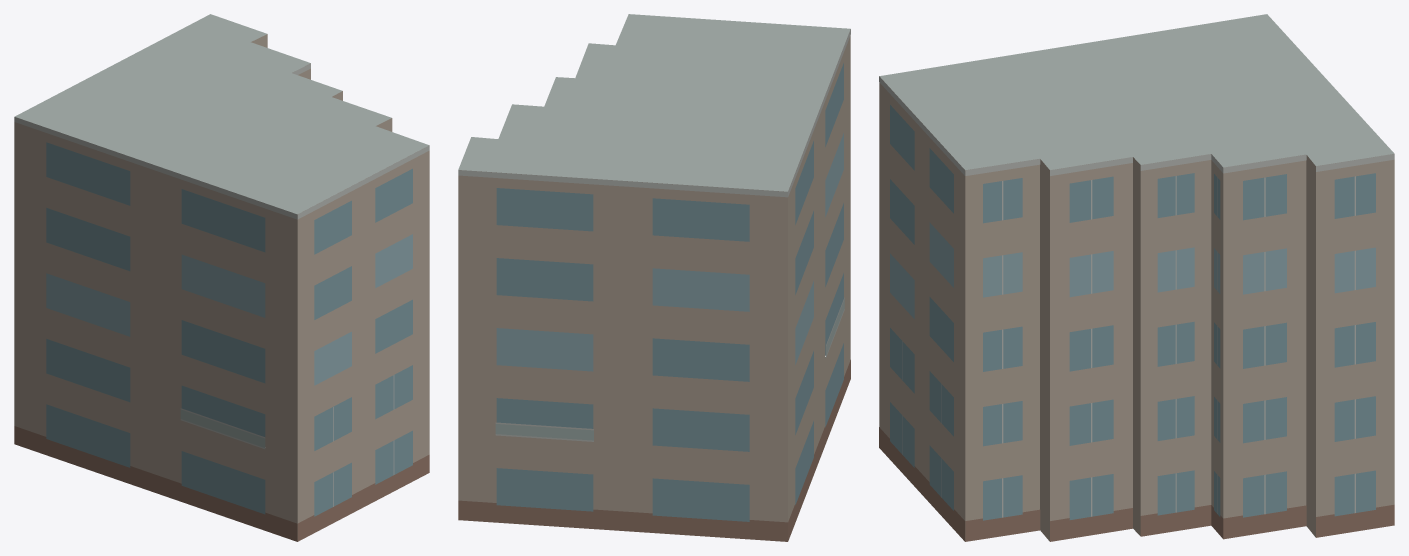
The model's file is survey-upis-32546384.glb.
3 views of the same model, side by side, from view 1: azimuth 30°, elevation 25°; view 2: azimuth 150°, elevation 25°; view 3: azimuth 270°, elevation 25° (orthographic). The views are drawn at different scales.
Parts seen in each view (by area): view 1: survey-upis-32546384.tmp; view 2: survey-upis-32546384.tmp; view 3: survey-upis-32546384.tmp.
Part boxes in pixels (x1,y1,x2,y2): survey-upis-32546384.tmp: (14,14,429,541); survey-upis-32546384.tmp: (458,14,850,541); survey-upis-32546384.tmp: (879,14,1394,541).
Bounding box in the file's own units: 13.76 × 15.25 × 19.18.
